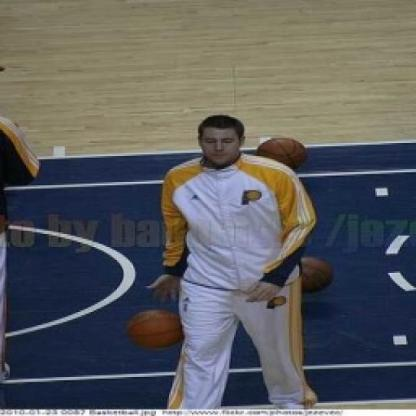basketball: (128, 304, 184, 350), (260, 134, 309, 164), (295, 256, 329, 288)
